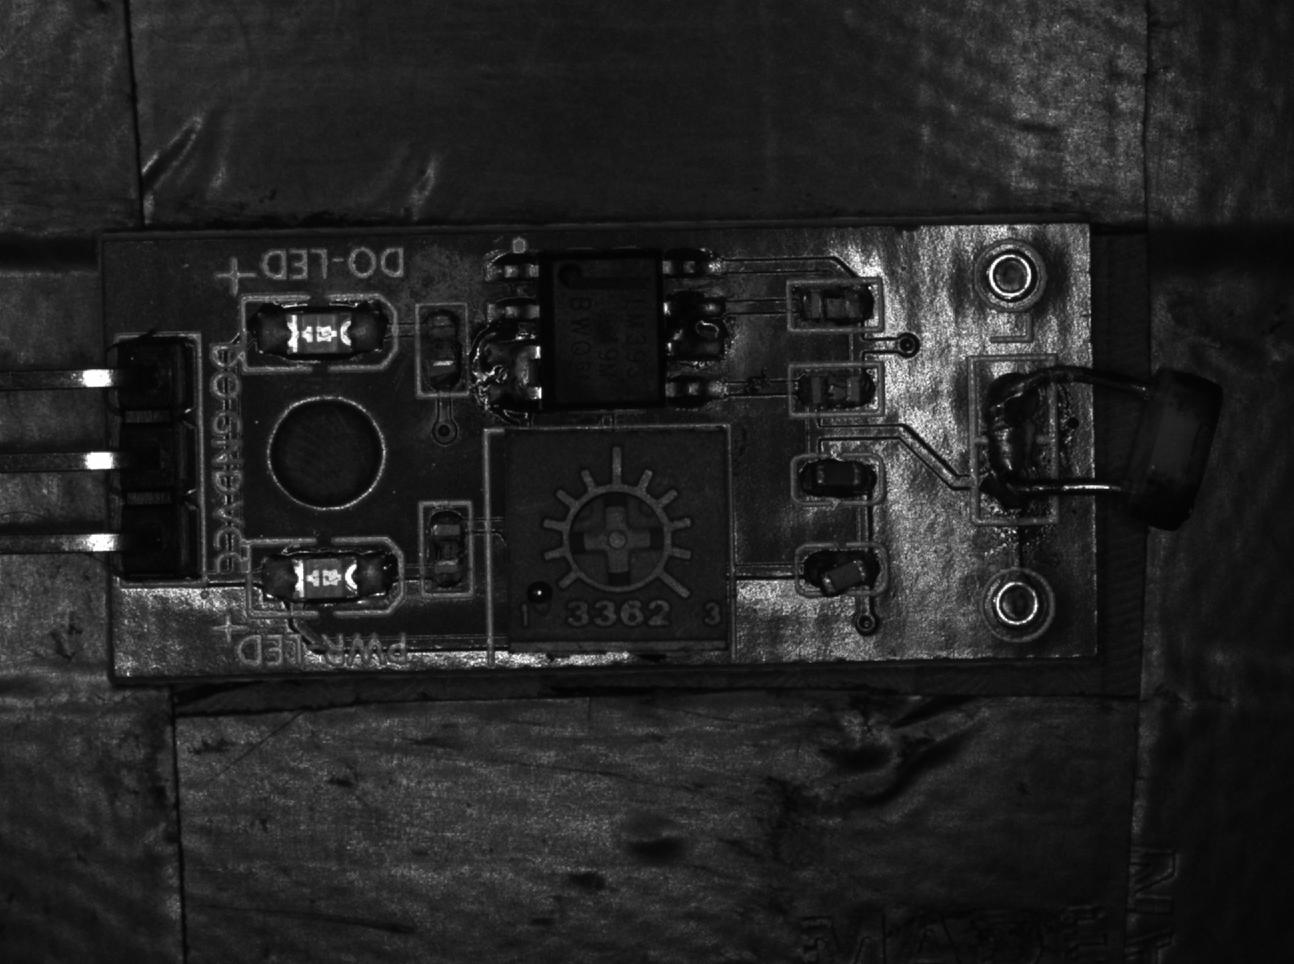bridge: (969, 358, 1062, 523), (665, 292, 721, 364), (488, 333, 541, 408)
lifted: (795, 544, 886, 598)
miss: (793, 450, 889, 509), (788, 276, 888, 333), (790, 365, 885, 420), (420, 504, 475, 598), (420, 299, 466, 398)
